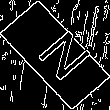N_SW: (22, 23, 88, 87)
